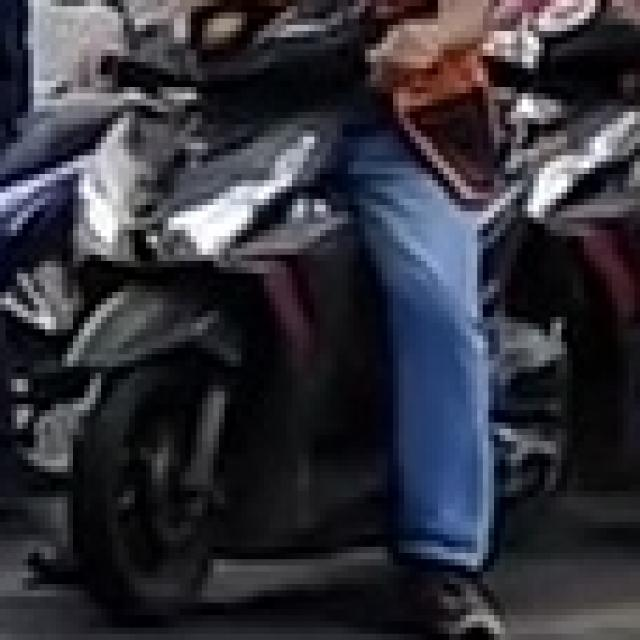door: (0, 0, 634, 634)
tyre: (68, 354, 224, 622)
